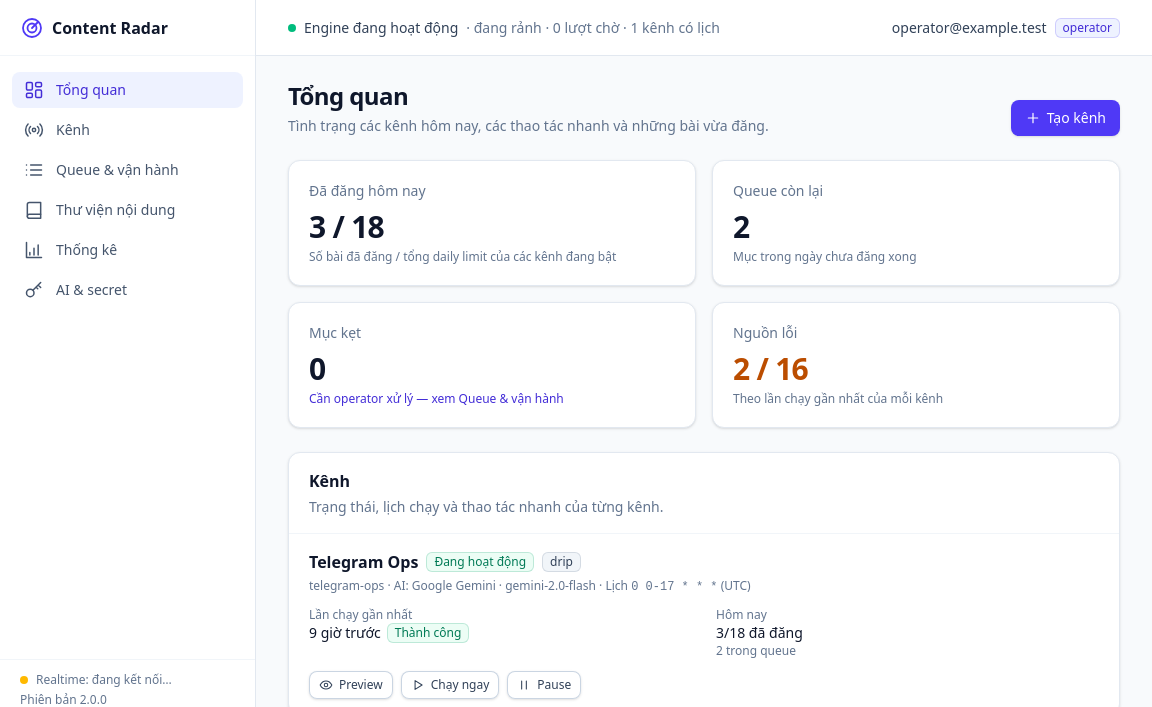
Test case: SessionProvider › blocks the app with a reload dialog when the session expires mid-use, without retrying
What coordinates should you click on to do the following:
click the button "Chạy ngay"
I would click on:
 (450, 685)
Its box is [401,671,499,699].
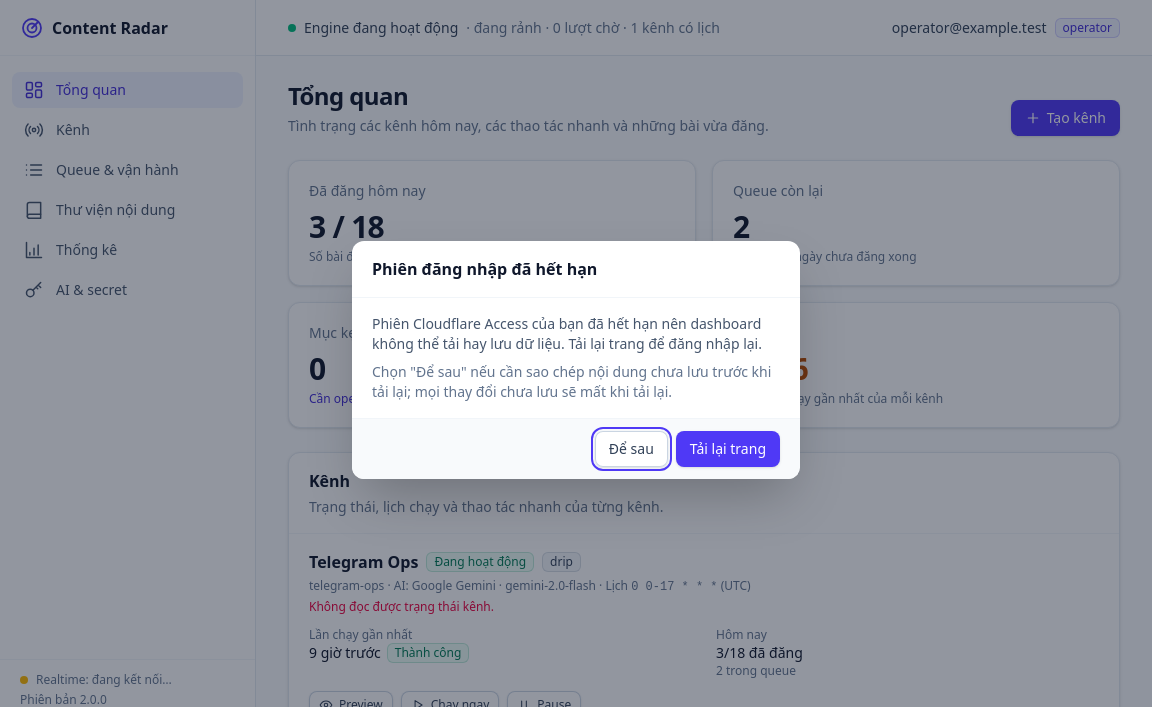
Result: the button "Tải lại trang" is shown at [676,431,780,467]
What coordinates should you click on to do the following:
click the button "Để sau"
I would click on:
 (631, 449)
Its box is [595,431,668,467].
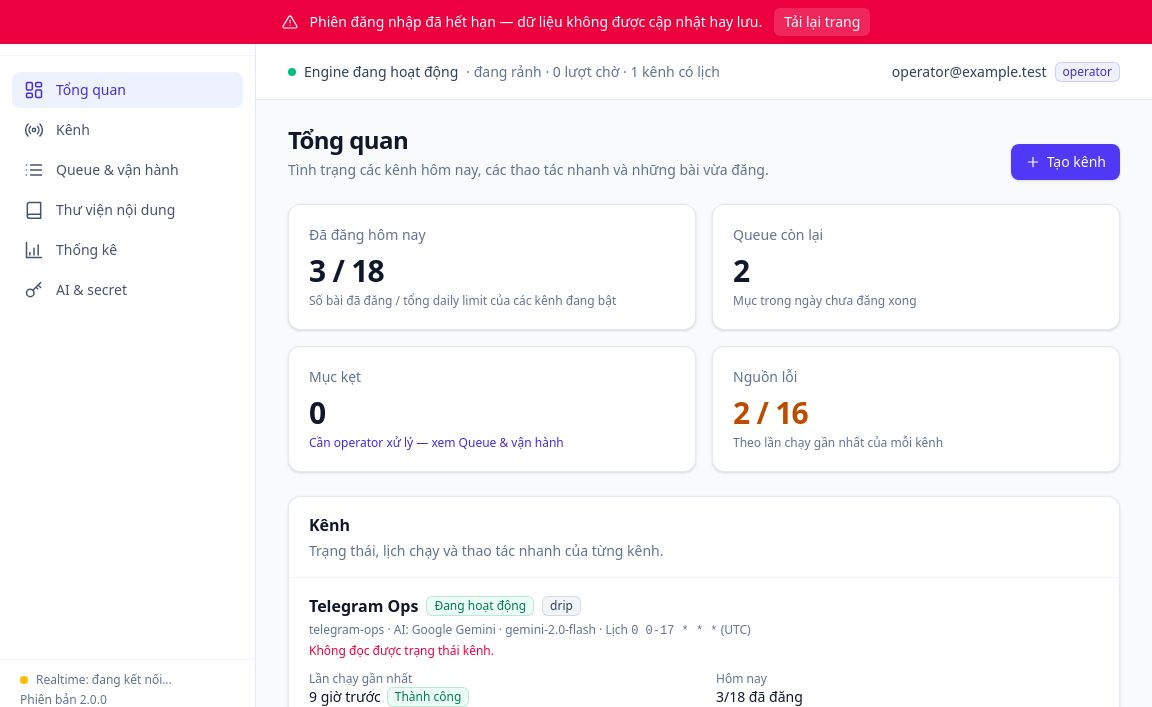
Expected: the link "Telegram Ops" is shown, [309,594,418,618]
Result: the button "Tải lại trang" is shown at [774,8,870,36]
Result: the dialog is gone
